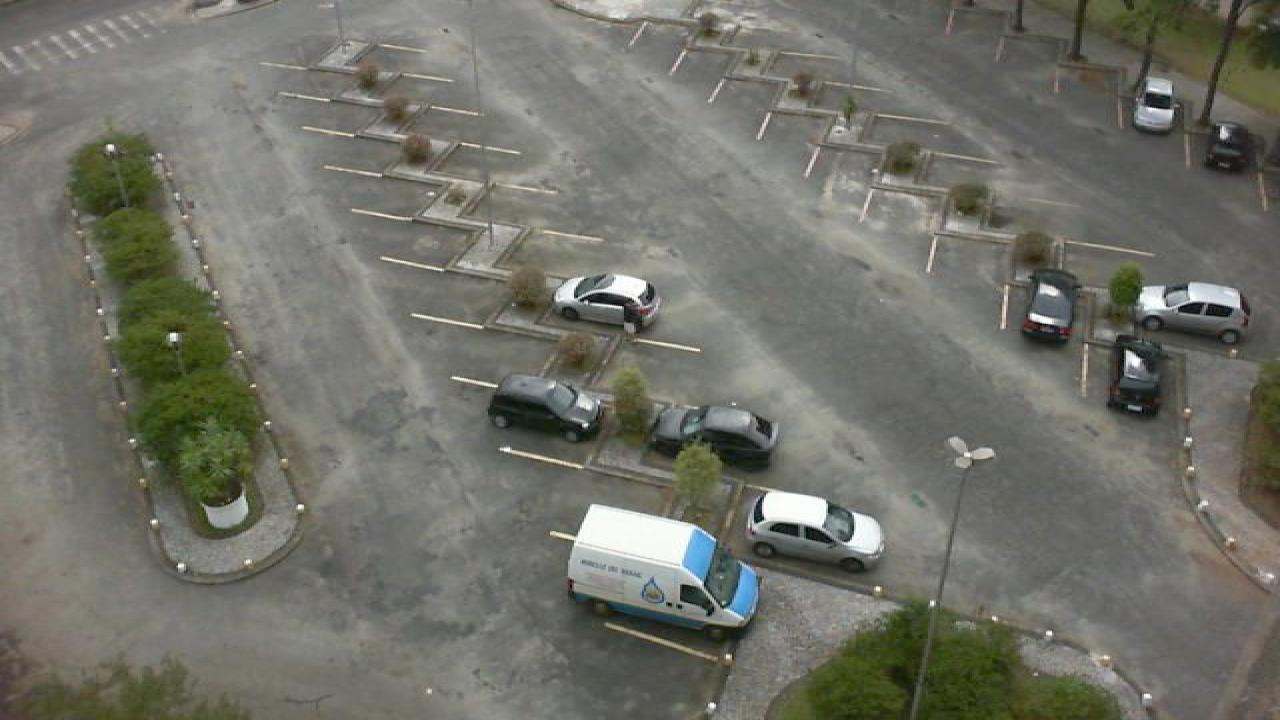Car: (740, 487, 892, 573), (650, 399, 784, 474), (484, 371, 618, 444), (1130, 279, 1256, 347), (546, 270, 664, 331), (1104, 333, 1168, 419), (1018, 268, 1080, 343), (1130, 75, 1180, 134), (1204, 119, 1256, 172)
